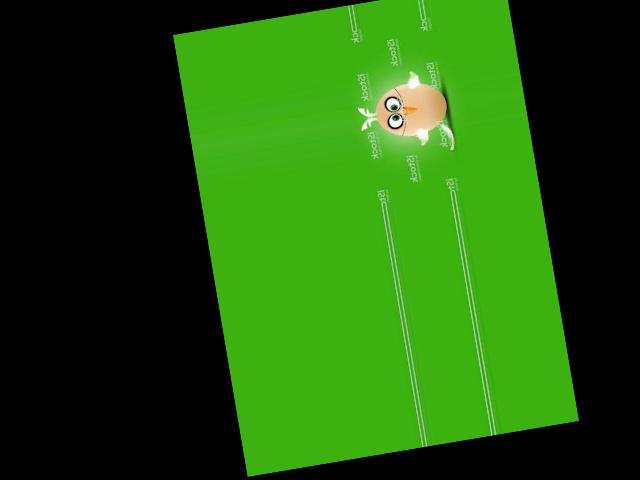egg: (372, 78, 452, 141)
